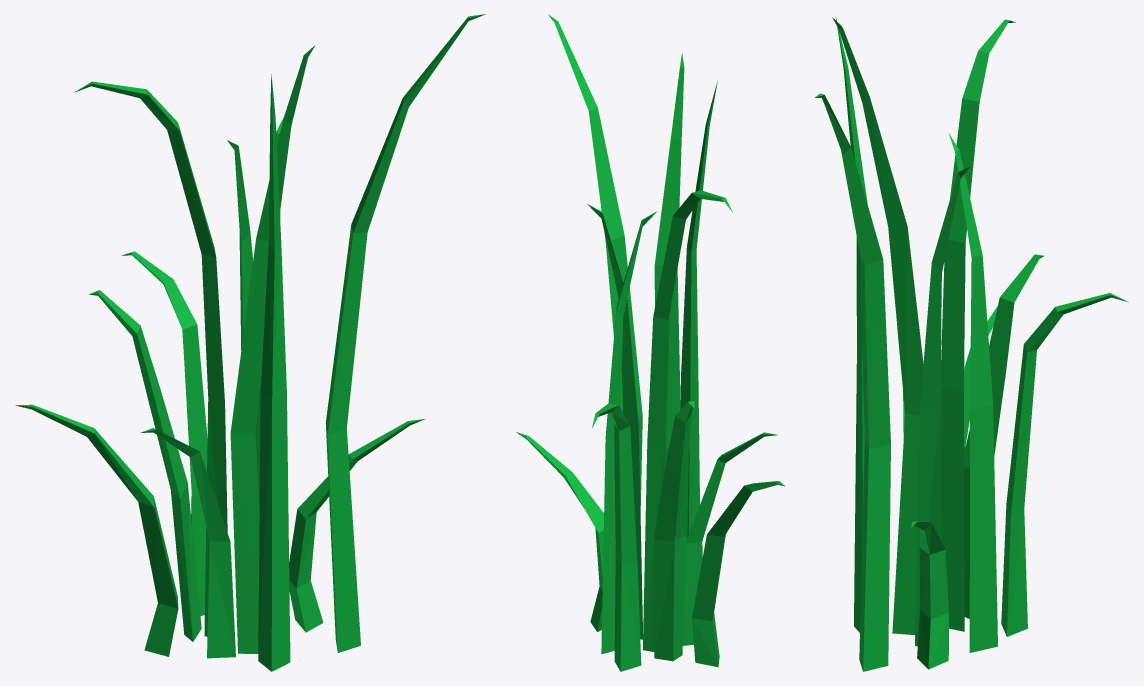
File: cattail2.glb
The picture shows the model from 3 angles, left to right: view 1: azimuth 30°, elevation 25°; view 2: azimuth 150°, elevation 25°; view 3: azimuth 270°, elevation 25°; orthographic projection. The views are drawn at different scales.
Parts seen in each view (by area): view 1: Cattail.002; view 2: Cattail.002; view 3: Cattail.002.
Part boxes in pixels (<box>): Cattail.002: <box>15,14,485,671</box>; Cattail.002: <box>516,14,784,671</box>; Cattail.002: <box>815,16,1128,671</box>.
Size of the model in its own units: 0.8171 by 1.32 by 0.6019.
